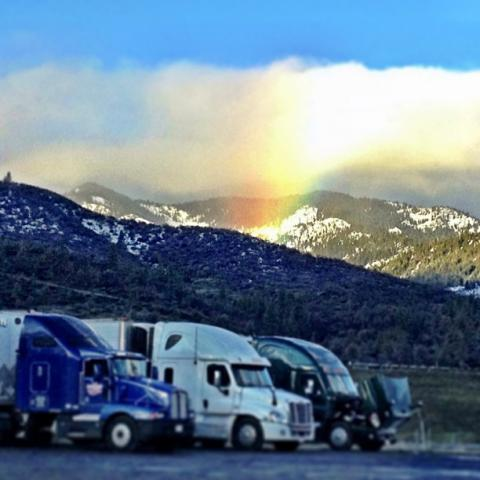truck: (84, 320, 315, 456), (0, 309, 198, 453), (253, 335, 425, 452)
